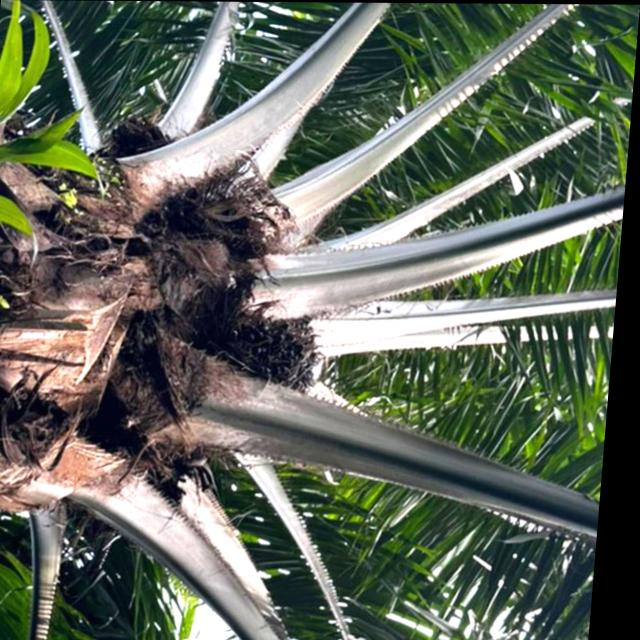unripe: (201, 299, 339, 396)
